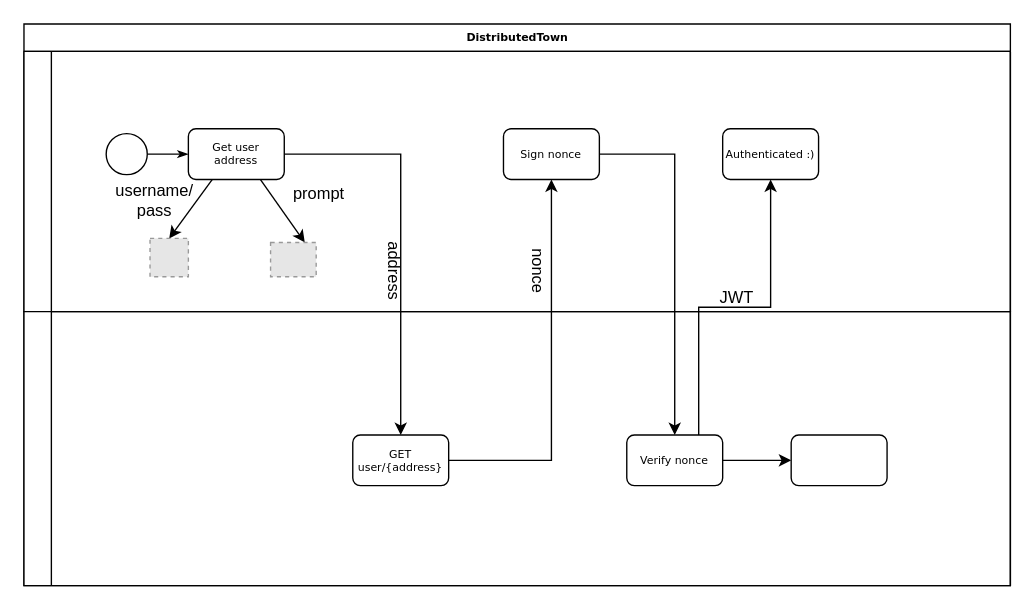
Some shapes in this 1034 by 610 pixel diagram are drawn without their labels. Grey dashed boxes stand in for pictures. Each missing label, with the box of its shape:
Back-end: (23, 310, 1010, 586)
Change nonce: (790, 434, 887, 486)
Front-end: (23, 50, 1010, 312)
